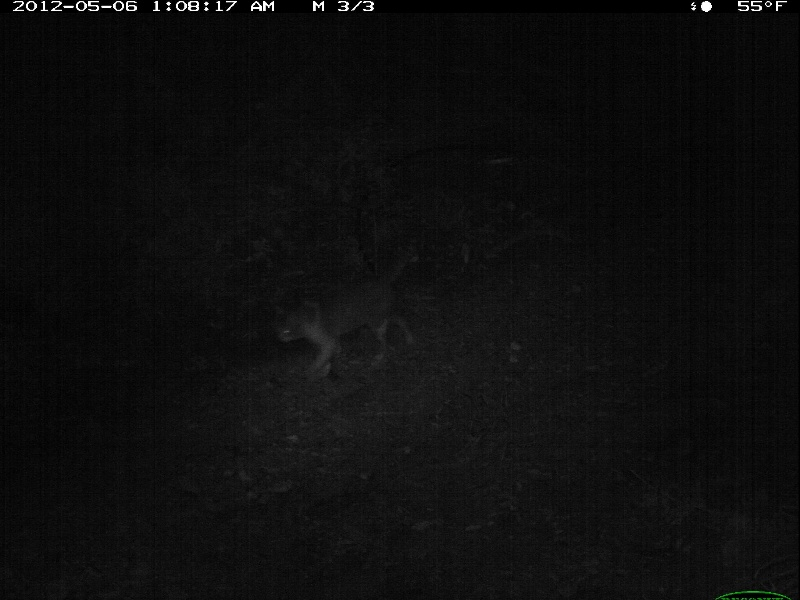cat: (276, 245, 417, 379)
